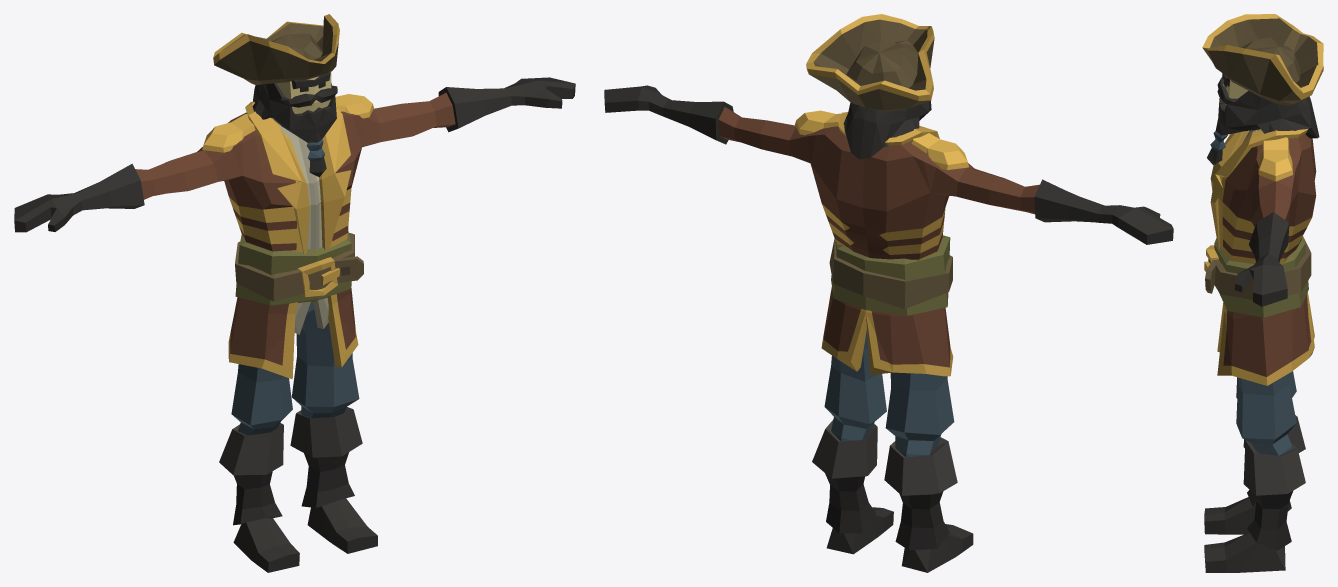
Rendered from PirateCaptain_2.fbx.
3 views of the same model, side by side, from view 1: azimuth 30°, elevation 25°; view 2: azimuth 150°, elevation 25°; view 3: azimuth 270°, elevation 25° (orthographic).
Visible parts, largest first — view 1: PirateCapitan_2; view 2: PirateCapitan_2; view 3: PirateCapitan_2.
Part boxes in pixels (x1,y1,x2,y2): PirateCapitan_2: (14,14,575,572); PirateCapitan_2: (604,14,1173,572); PirateCapitan_2: (1202,14,1323,572).
Bounding box in the file's own units: 206 × 179 × 38.32.
